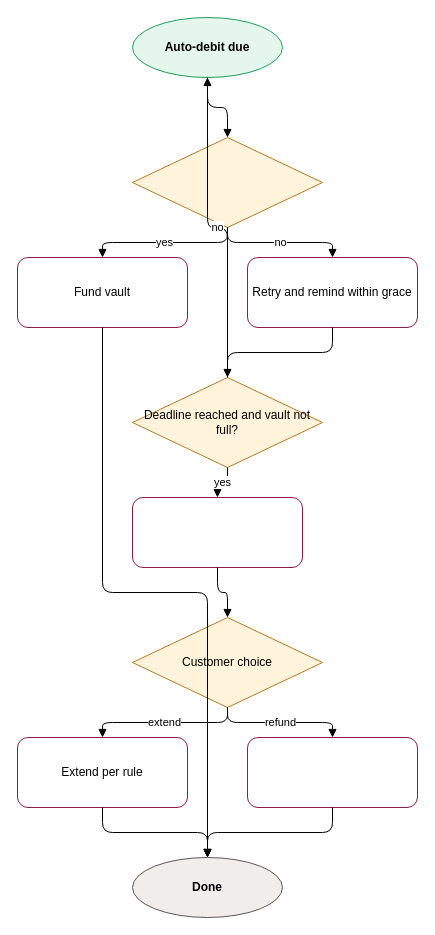
Some shapes in this 435 by 935 pixel diagram are drawn without their labels. Here are the shapes that lost their labels. From the top down, the centre of each, then its label:
At pixel 227 182: "Funds available?".
At pixel 217 532: "Offer: extend deadline or refund minus fee".
At pixel 332 772: "Refund pocket minus fee; release stock".
